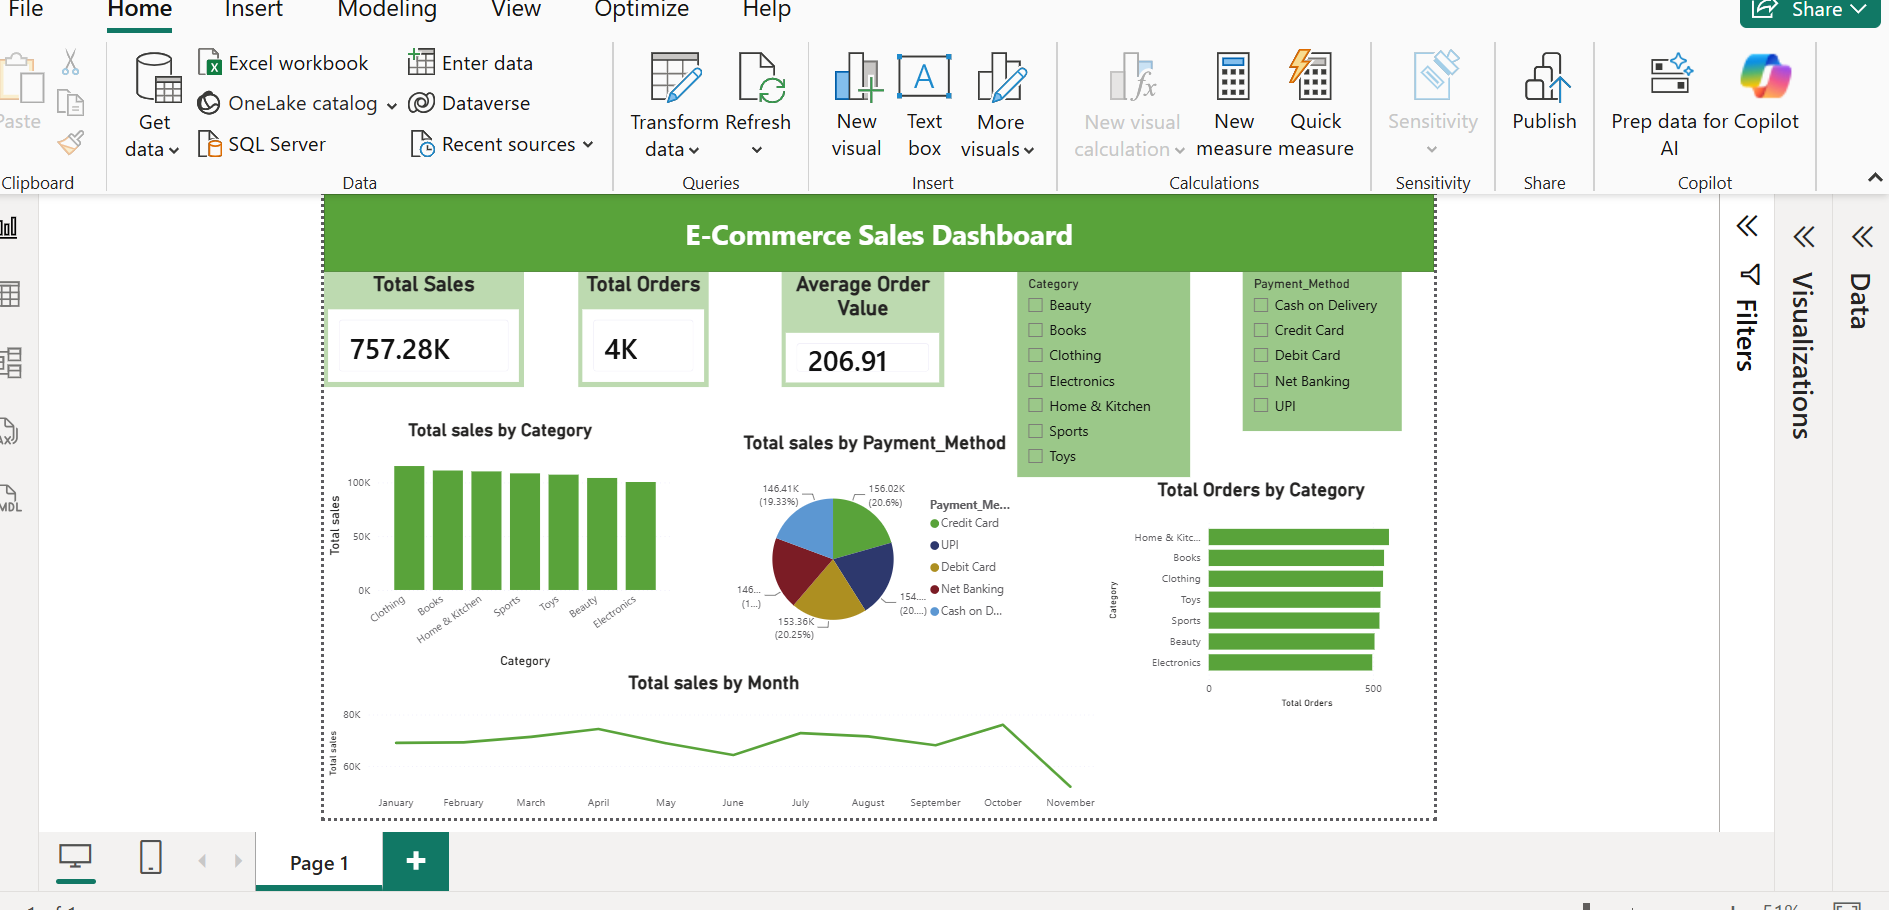

The page's visual inventory and layout, read from the dashboard file:
{"tool":"powerbi","page":{"name":"Page 1","canvas":[1280,720],"ordinal":0},"visuals":[{"type":"clusteredColumnChart","fields":{"Category":["E-Commerce Datasets.Category"],"Y":["E-Commerce Datasets.Total sales"]},"box":[0,260,406.6,291.3],"z":3},{"type":"pieChart","fields":{"Category":["E-Commerce Datasets.Payment_Method"],"Y":["E-Commerce Datasets.Total sales"]},"box":[471.1,273.7,328.4,260],"z":5},{"type":"lineChart","fields":{"Category":["E-Commerce Datasets.Purchase_Date.Variation.Date Hierarchy.Month"],"Y":["E-Commerce Datasets.Total sales"]},"box":[0,551.3,899.3,168.1],"z":6},{"type":"barChart","fields":{"Category":["E-Commerce Datasets.Category"],"Y":["E-Commerce Datasets.Total Orders"]},"box":[899.3,328.4,363.6,269.8],"z":7},{"type":"slicer","fields":{"Values":["E-Commerce Datasets.Category"]},"box":[799.6,89.9,199.4,236.5],"z":8},{"type":"slicer","fields":{"Values":["E-Commerce Datasets.Payment_Method"]},"box":[1059.6,89.9,183.8,183.8],"z":9},{"type":"cardVisual","title":"Total Sales","fields":{"Data":["E-Commerce Datasets.Total sales"]},"box":[0,89.9,230.7,132.9],"z":10},{"type":"cardVisual","title":"Total Orders","fields":{"Data":["E-Commerce Datasets.Total Orders"]},"box":[293.2,89.9,150.5,132.9],"z":11},{"type":"cardVisual","title":"Average Order Value ","fields":{"Data":["E-Commerce Datasets.Average Order Value"]},"box":[527.8,89.9,187.7,132.9],"z":12},{"type":"shape","box":[0,0,1280.5,89.9],"z":13}]}

Visuals, with their boxes on the page's 1280x720 design canvas (x1, y1, x2, y2). These are canvas units, not pixel positions in the 1889x910 screenshot, which may show the page scaled, cropped or inside an application window:
clusteredColumnChart - E-Commerce Datasets.Category x E-Commerce Datasets.Total sales: [0, 260, 407, 551]
pieChart - E-Commerce Datasets.Payment_Method x E-Commerce Datasets.Total sales: [471, 274, 800, 534]
lineChart - E-Commerce Datasets.Purchase_Date.Variation.Date Hierarchy.Month x E-Commerce Datasets.Total sales: [0, 551, 899, 719]
barChart - E-Commerce Datasets.Category x E-Commerce Datasets.Total Orders: [899, 328, 1263, 598]
slicer - E-Commerce Datasets.Category: [800, 90, 999, 326]
slicer - E-Commerce Datasets.Payment_Method: [1060, 90, 1243, 274]
"Total Sales" cardVisual: [0, 90, 231, 223]
"Total Orders" cardVisual: [293, 90, 444, 223]
"Average Order Value " cardVisual: [528, 90, 716, 223]
shape: [0, 0, 1280, 90]
